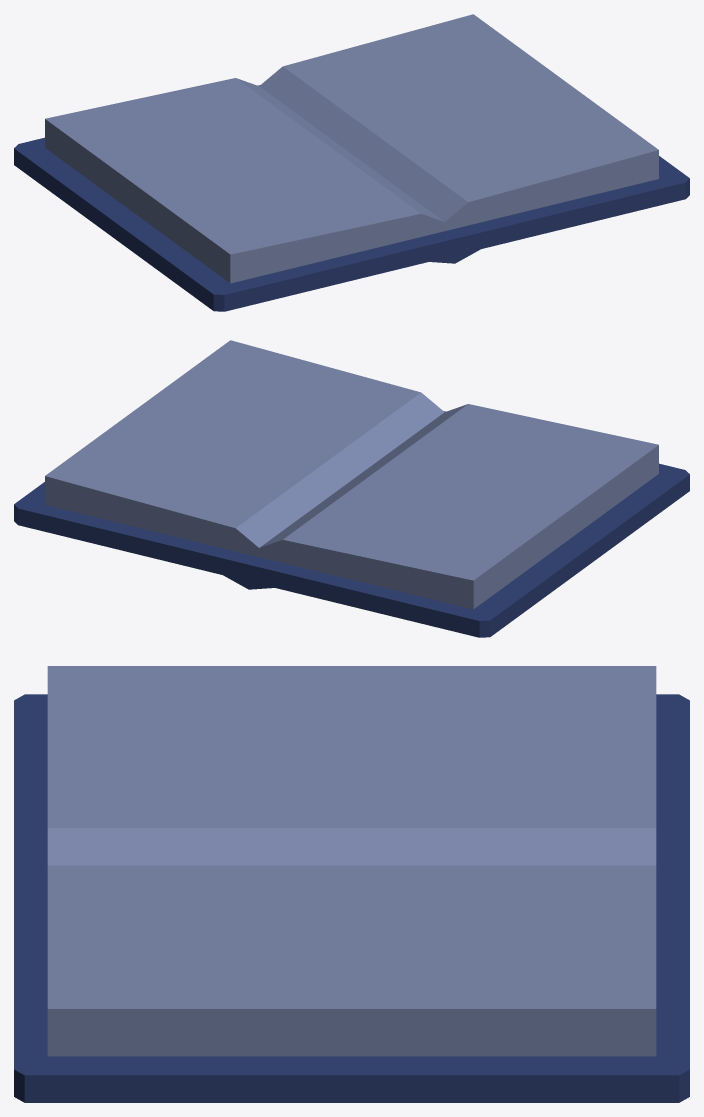
The model's file is OvertimeBook.fbx.
The picture shows the model from 3 angles, top to bottom: view 1: azimuth 30°, elevation 25°; view 2: azimuth 150°, elevation 25°; view 3: azimuth 270°, elevation 25°; orthographic projection. The views are drawn at different scales.
Visible parts, largest first — view 1: Cube; view 2: Cube; view 3: Cube.
Boxes of the visible parts, box(x1,y1,x2,y2) form: Cube: box(14, 14, 689, 311); Cube: box(14, 340, 689, 637); Cube: box(14, 666, 689, 1102).
Size of the model in its own units: 1 by 0.75 by 0.108.
